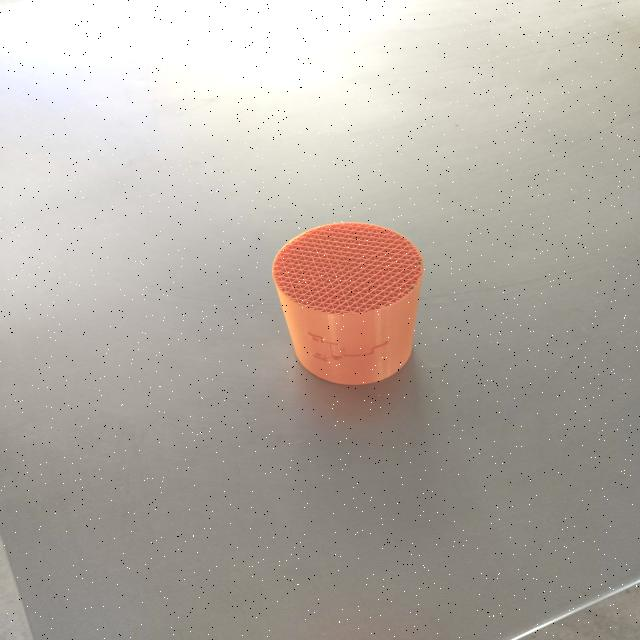Cylinder: (272, 220, 425, 386)
